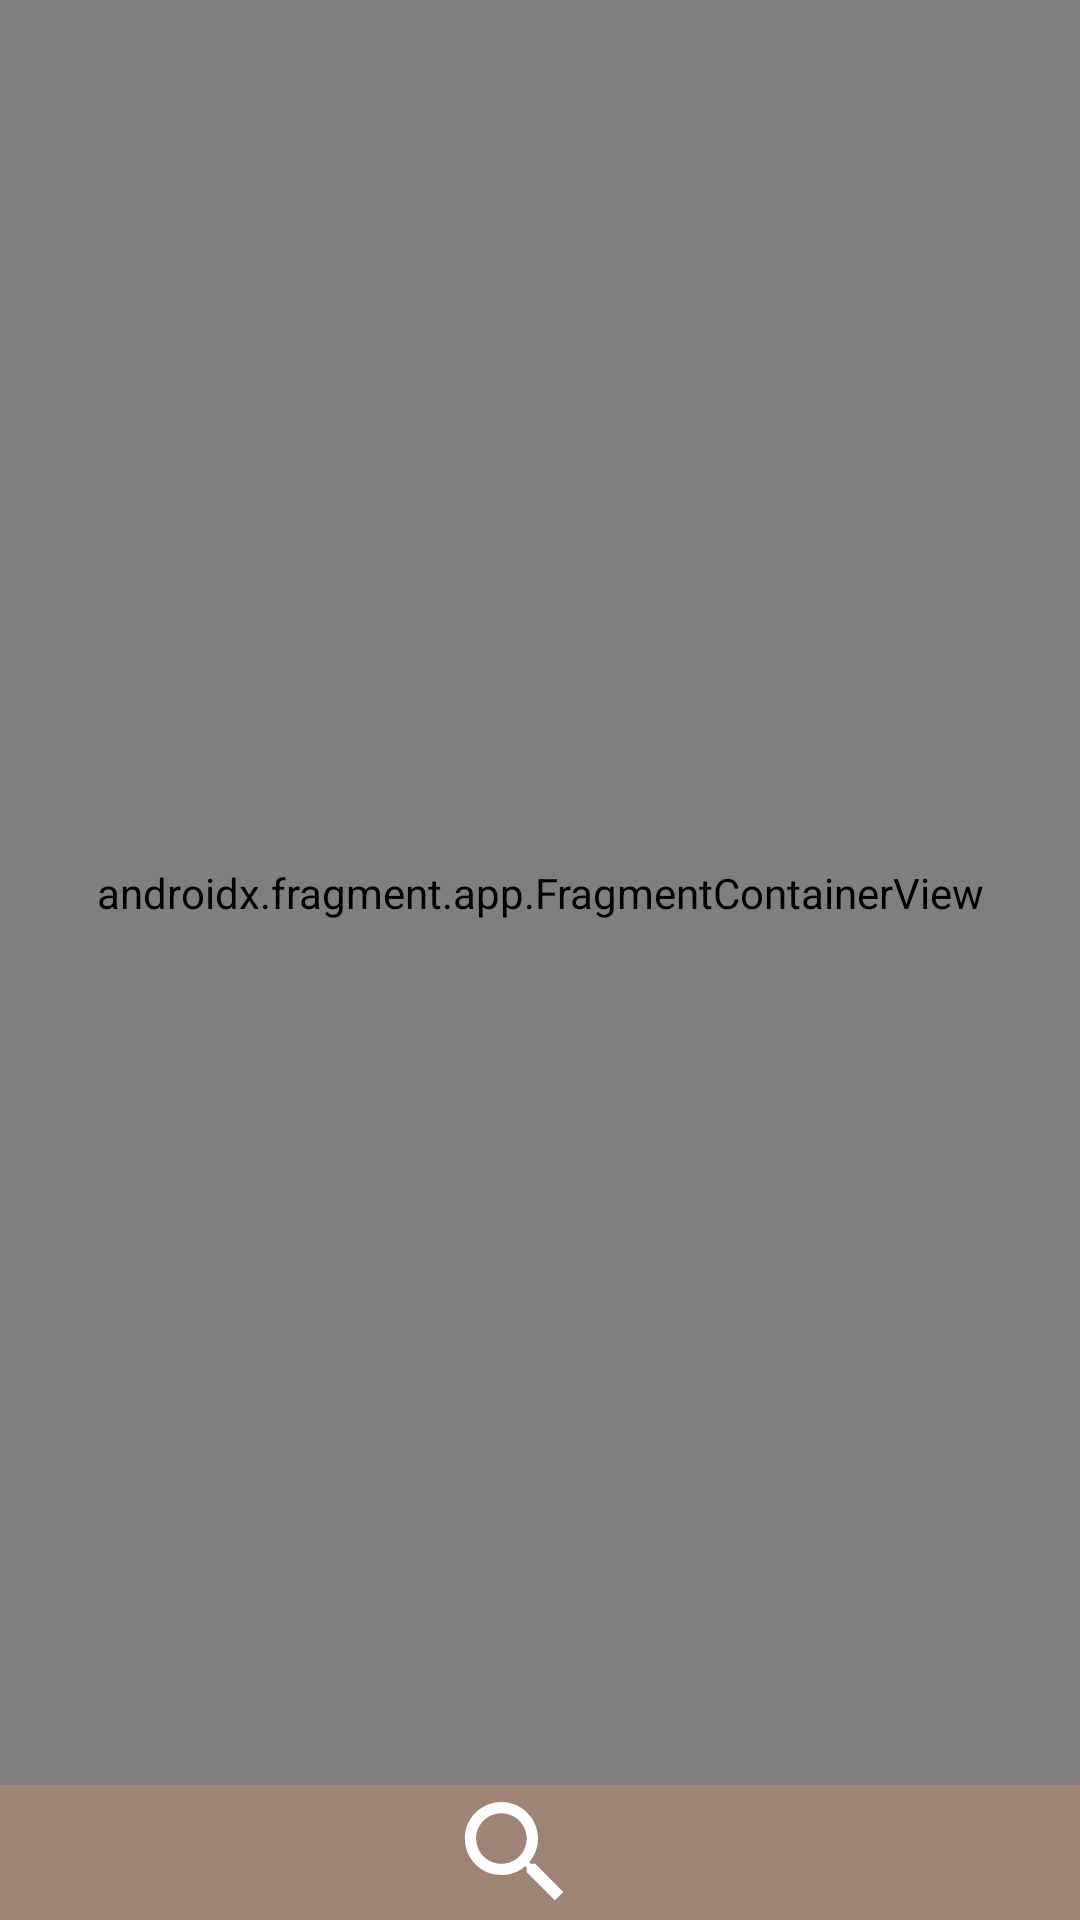

Icon bounding boxes for this 1080w x 1920h phone screenshot, format (x1, y1, x2, y2):
search: (465, 1802, 563, 1900)
